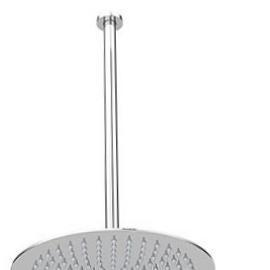Ducha: (0, 0, 227, 269)
